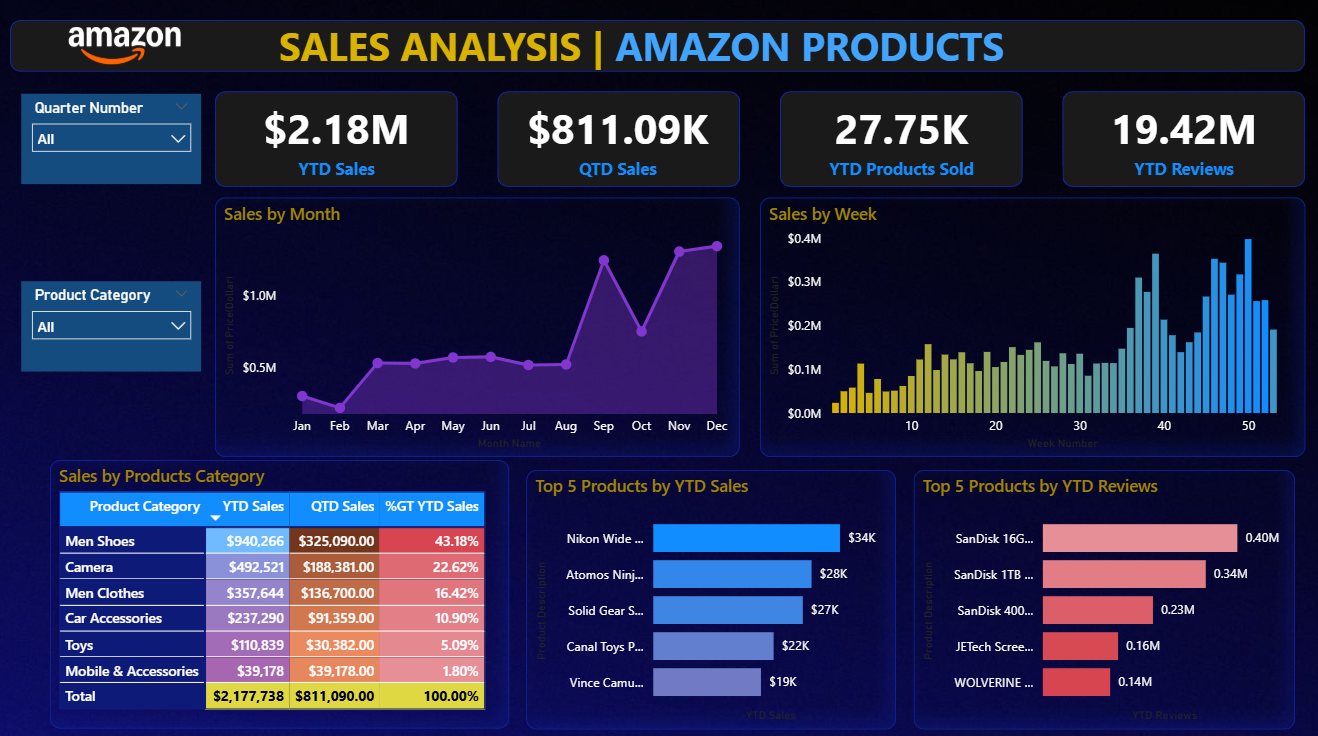

This screenshot's page, from the dashboard's own definition file:
{"tool":"powerbi","page":{"name":"Amazon Sales Analysis","canvas":[1280,720],"ordinal":0},"visuals":[{"type":"shape","box":[15,23.8,1250,50],"z":0},{"type":"textbox","box":[268.8,18.8,742.5,60],"z":1000},{"type":"group","id":"g1","title":"Group 1","box":[212.5,92.5,1052.5,92.5],"z":2000},{"type":"shape","box":[212.5,92.5,234.2,92.5],"z":3000,"group":"g1"},{"type":"areaChart","title":"Sales by Month","fields":{"Category":["Date Table.Month Name"],"Y":["Sum(Amazon_Data.Price(Dollar))"]},"box":[212.5,195,506.2,250],"z":3000},{"type":"card","fields":{"Values":["Amazon_Data.YTD Sales"]},"box":[223,92.5,213.1,92.5],"z":4000,"group":"g1"},{"type":"columnChart","title":"Sales by Week","fields":{"Category":["Date Table.Week Number"],"Y":["Sum(Amazon_Data.Price(Dollar))"]},"box":[738.8,195,526.2,250],"z":4000},{"type":"shape","box":[1030.8,92.5,234.2,92.5],"z":5000,"group":"g1"},{"type":"pivotTable","title":"Sales by Products Category","fields":{"Rows":["Amazon_Data.Product Category"],"Values":["Amazon_Data.YTD Sales1","Amazon_Data.QTD Sales","Amazon_Data.YTD Sales"]},"box":[52.9,449.3,442.9,259.3],"z":5000},{"type":"shape","box":[758,92.5,234.2,92.5],"z":6000,"group":"g1"},{"type":"clusteredBarChart","title":"Top 5 Products by YTD Sales","fields":{"Category":["Amazon_Data.Product Description"],"Y":["Amazon_Data.YTD Sales"]},"box":[512.9,458.6,357.1,250],"z":6000},{"type":"shape","box":[485.3,92.5,234.2,92.5],"z":7000,"group":"g1"},{"type":"clusteredBarChart","title":"Top 5 Products by YTD Reviews","fields":{"Category":["Amazon_Data.Product Description"],"Y":["Amazon_Data.YTD Reviews"]},"box":[887.1,458.6,367.9,250],"z":7000},{"type":"card","fields":{"Values":["Amazon_Data.QTD Sales"]},"box":[495.4,92.5,213.1,92.5],"z":8000,"group":"g1"},{"type":"slicer","fields":{"Values":["Amazon_Data.Product Category"]},"box":[24.8,276.1,173.9,87.4],"z":8000},{"type":"card","fields":{"Values":["Amazon_Data.YTD Products Sold"]},"box":[769,92.5,213.1,92.5],"z":9000,"group":"g1"},{"type":"slicer","fields":{"Values":["Date Table.Quarter Number"]},"box":[24.8,94.8,173.9,87.4],"z":9000},{"type":"image","box":[67,15.7,117.8,66.1],"z":10000},{"type":"card","fields":{"Values":["Amazon_Data.YTD Reviews"]},"box":[1041.3,92.5,213.1,92.5],"z":10000,"group":"g1"}]}

Visuals, with their boxes in screenshot pixels (x1, y1, x2, y2), scaled from the page's 1280x720 canvas onto the 1318x736 screenshot:
shape: crop(15, 24, 1303, 75)
textbox: crop(277, 19, 1041, 81)
"Group 1" group: crop(219, 95, 1303, 189)
shape: crop(219, 95, 460, 189)
"Sales by Month" areaChart: crop(219, 199, 740, 455)
card - Amazon_Data.YTD Sales: crop(230, 95, 449, 189)
"Sales by Week" columnChart: crop(761, 199, 1303, 455)
shape: crop(1061, 95, 1303, 189)
"Sales by Products Category" pivotTable: crop(54, 459, 511, 724)
shape: crop(781, 95, 1022, 189)
"Top 5 Products by YTD Sales" clusteredBarChart: crop(528, 469, 896, 724)
shape: crop(500, 95, 741, 189)
"Top 5 Products by YTD Reviews" clusteredBarChart: crop(913, 469, 1292, 724)
card - Amazon_Data.QTD Sales: crop(510, 95, 730, 189)
slicer - Amazon_Data.Product Category: crop(26, 282, 205, 372)
card - Amazon_Data.YTD Products Sold: crop(792, 95, 1011, 189)
slicer - Date Table.Quarter Number: crop(26, 97, 205, 186)
image: crop(69, 16, 190, 84)
card - Amazon_Data.YTD Reviews: crop(1072, 95, 1292, 189)
